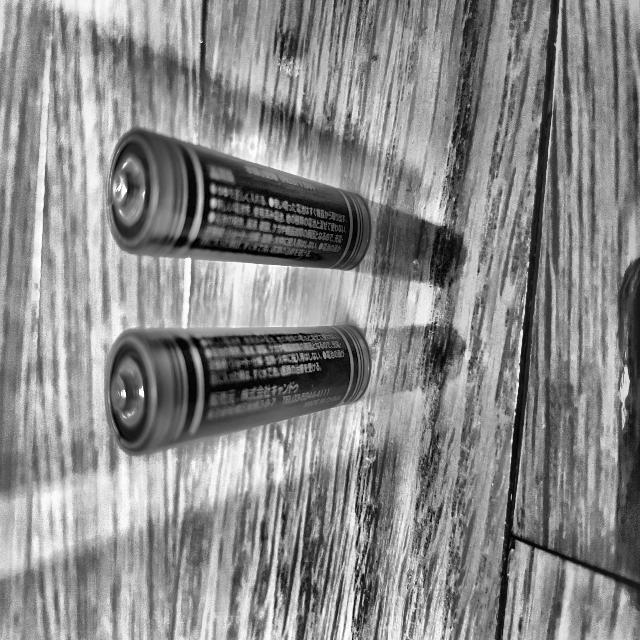drycell: (107, 131, 370, 269), (105, 325, 371, 452)
